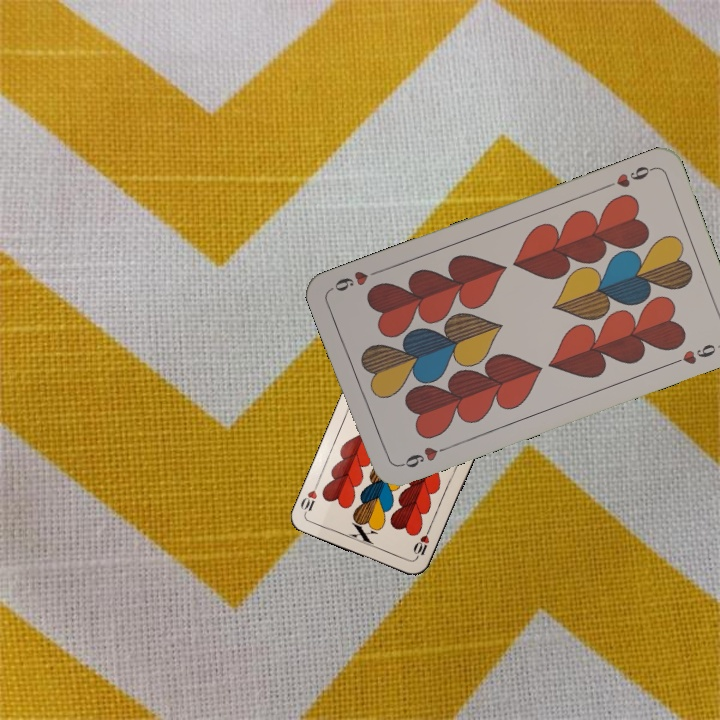H10: (409, 524, 433, 562)
H9: (600, 162, 657, 192), (394, 442, 452, 471)
